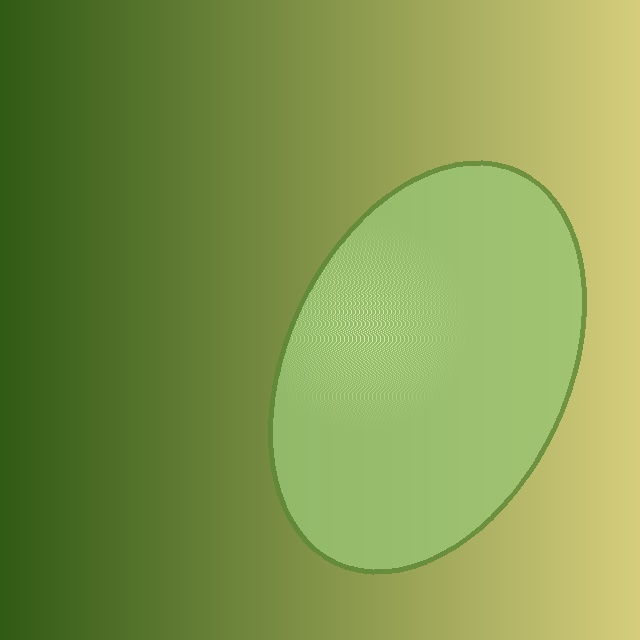lens: (271, 162, 583, 572)
